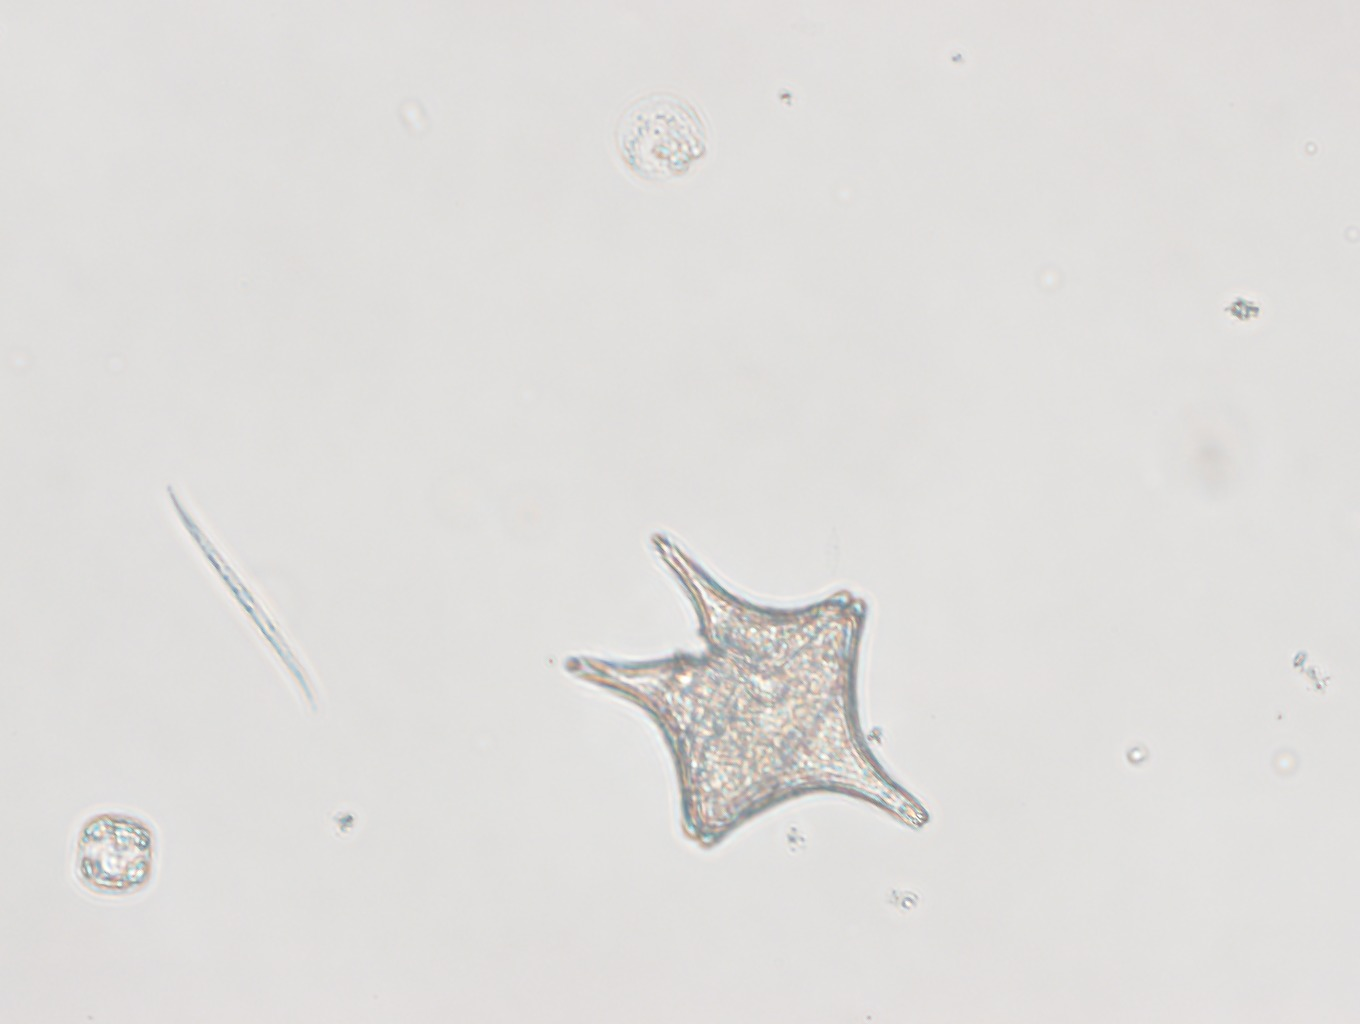protoperidinium: (562, 528, 931, 849), (161, 483, 318, 715)
